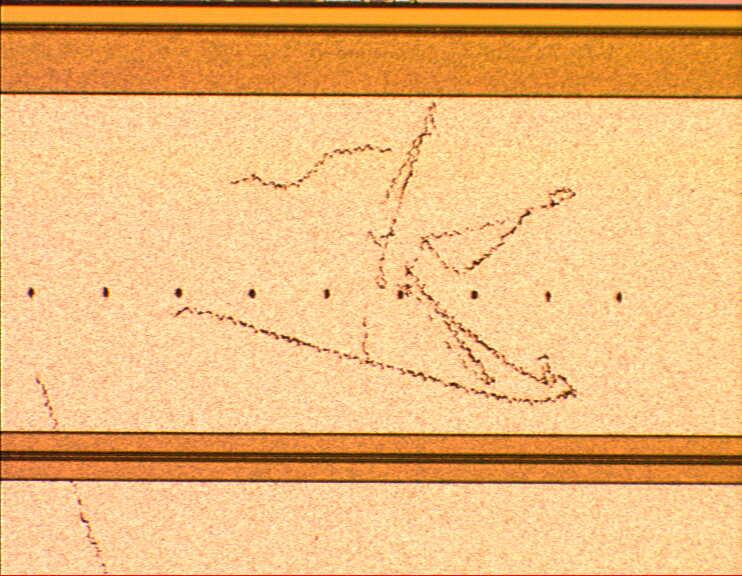SCRATCH: (29, 96, 586, 576)
